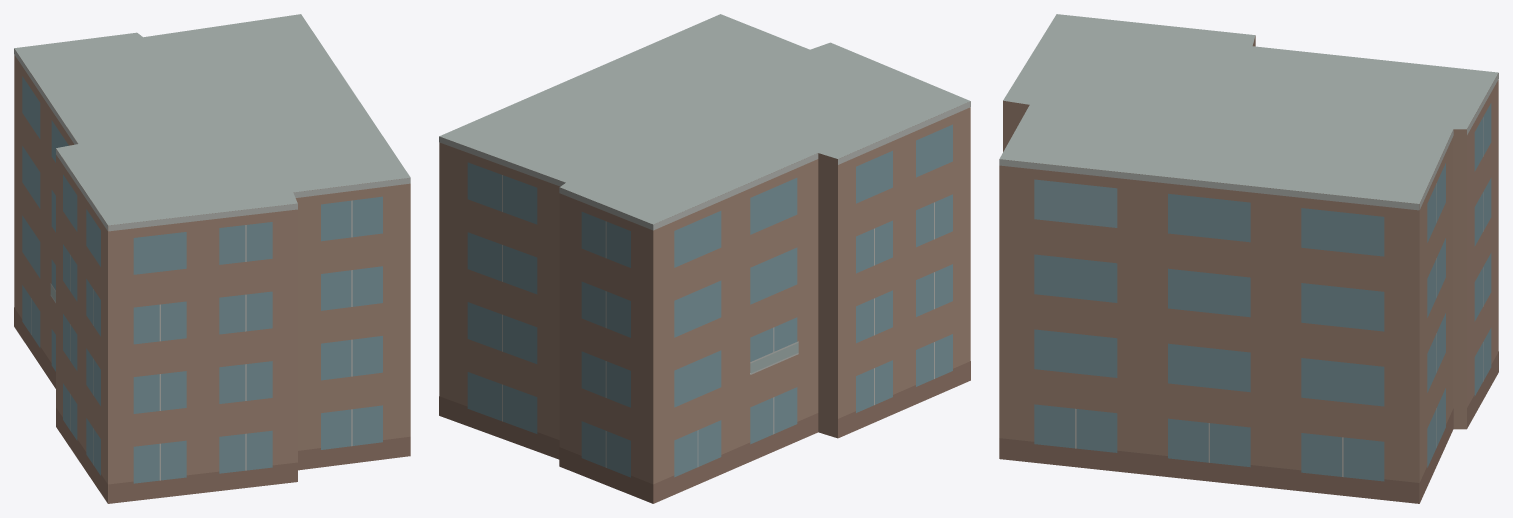
File: survey-upis-32769435.glb
The picture shows the model from 3 angles, left to right: view 1: azimuth 30°, elevation 25°; view 2: azimuth 150°, elevation 25°; view 3: azimuth 270°, elevation 25°; orthographic projection. The views are drawn at different scales.
Visible parts, largest first — view 1: survey-upis-32769435.tmp; view 2: survey-upis-32769435.tmp; view 3: survey-upis-32769435.tmp.
Part boxes in pixels (x1,y1,x2,y2): survey-upis-32769435.tmp: (14,14,410,503); survey-upis-32769435.tmp: (439,14,970,503); survey-upis-32769435.tmp: (999,14,1498,503).
Bounding box in the file's own units: 15.5 × 11.4 × 17.22.
